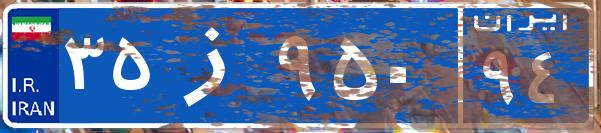0: (385, 28, 445, 110)
3: (57, 26, 110, 107)
4: (525, 38, 570, 115)
5: (330, 28, 385, 110), (110, 28, 158, 105)
9: (273, 28, 330, 110), (475, 38, 525, 113)
ز: (158, 15, 273, 115)
